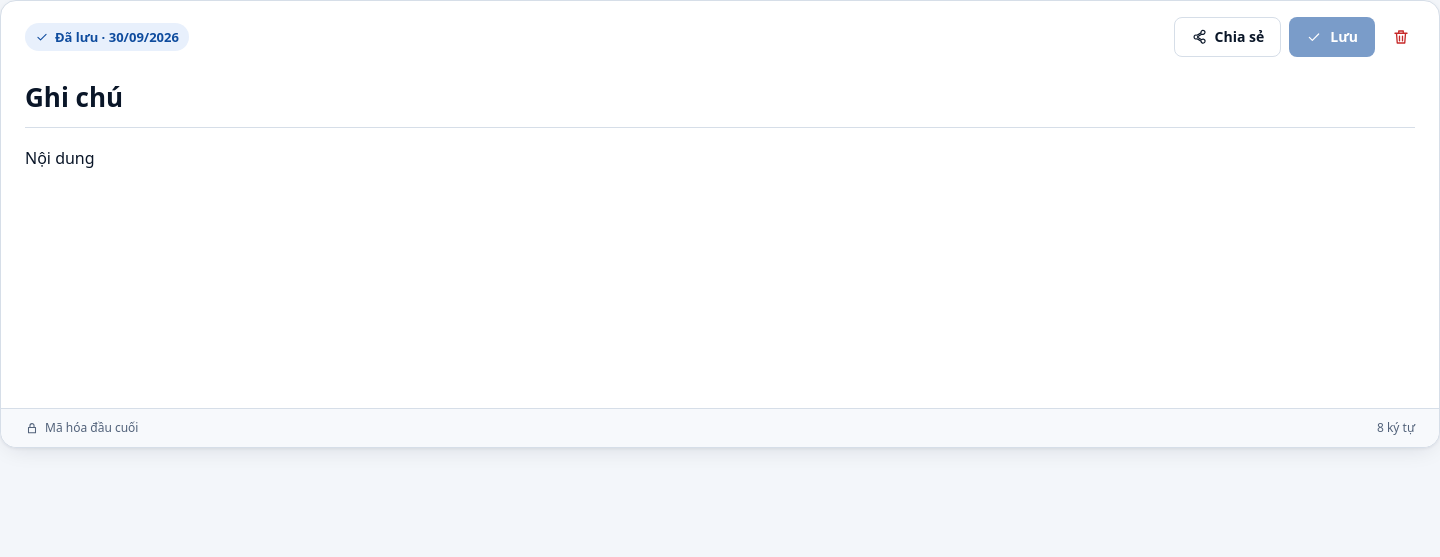
Scenario: NoteEditor: không âm thầm ghi đè › bấm Tải bản mới nhất thì mở bản của máy chủ và bỏ cảnh báo
Step 1. Replace the text in the text box named "Nội dung ghi chú" with "Bản của tôi" → {"x": 720, "y": 268}, box [25,128,1415,408]
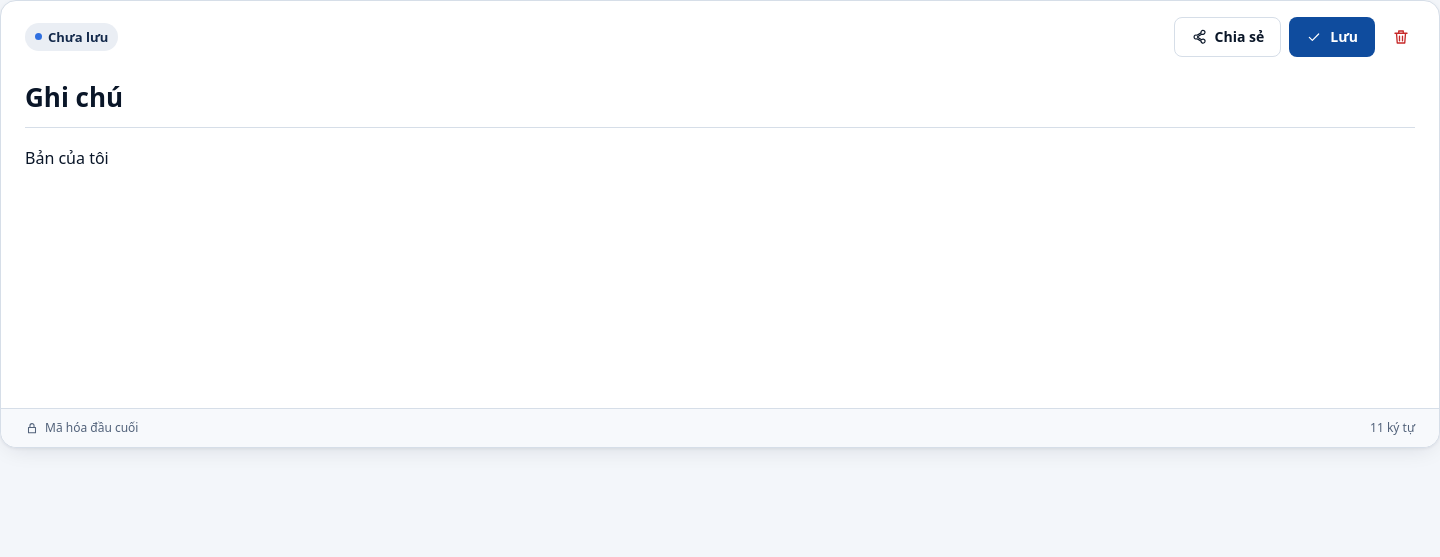
Step 2. Click the button "Lưu" → {"x": 1332, "y": 37}, box [1289,17,1375,57]
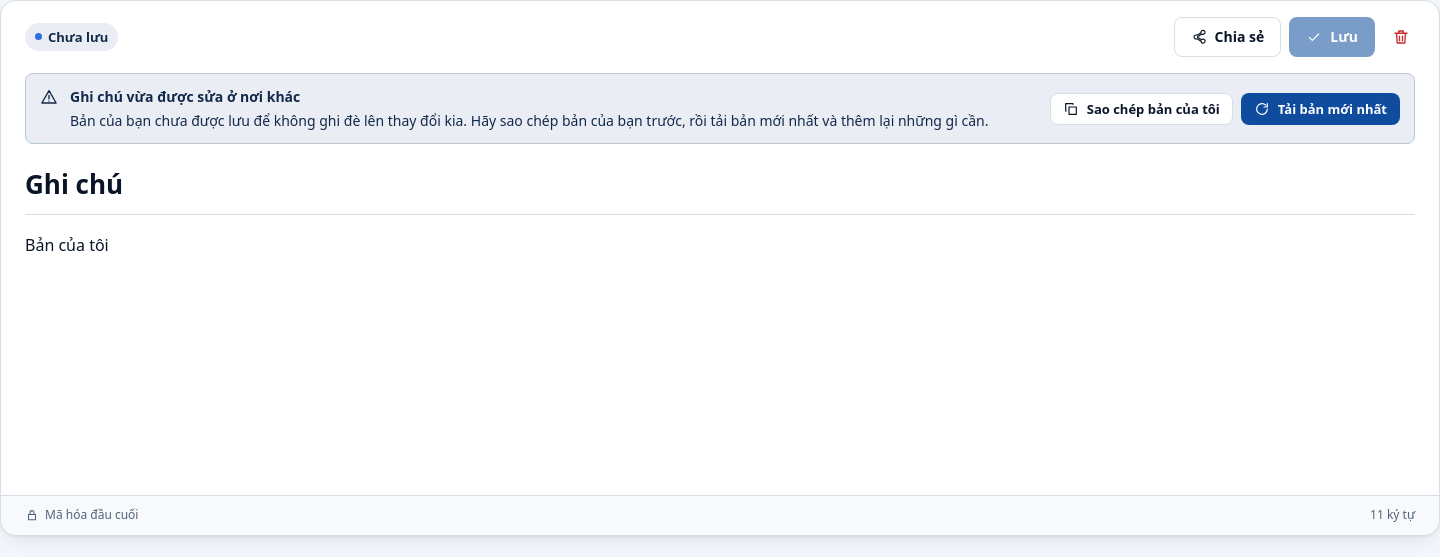
Step 3. Click the button "Tải bản mới nhất" → {"x": 1320, "y": 109}, box [1241,93,1400,125]
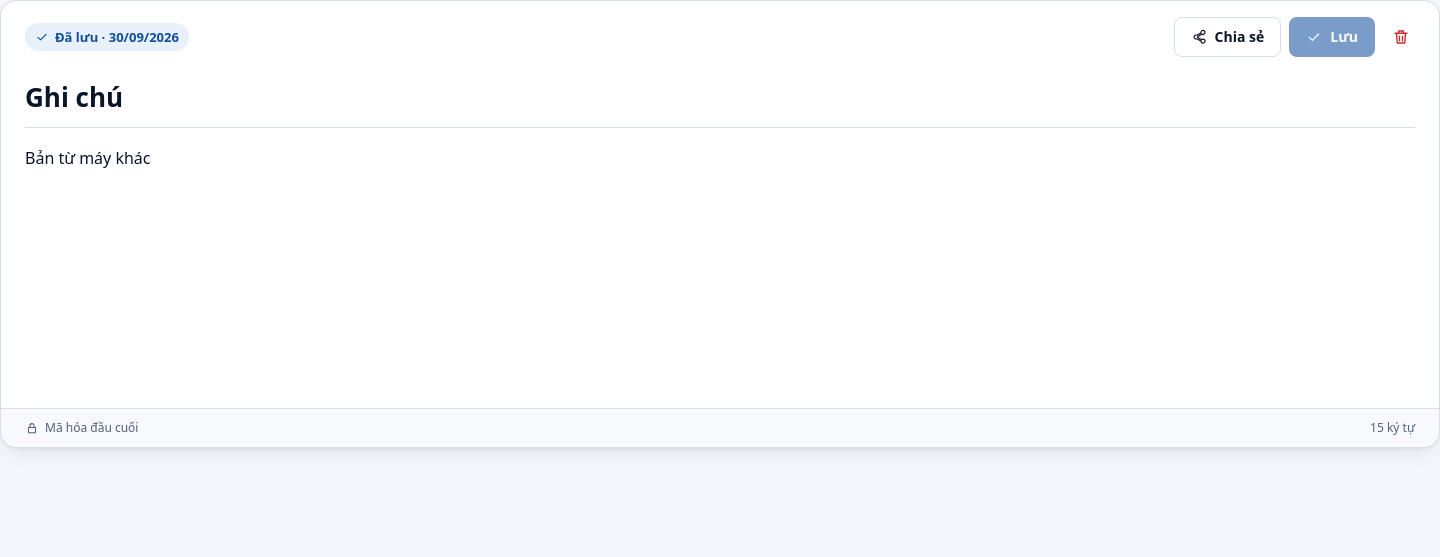
Now the text box named "Nội dung ghi chú" holds "Bản từ máy khác", box [25,128,1415,408]
Now the text "Ghi chú vừa được sửa ở nơi khác" is gone
